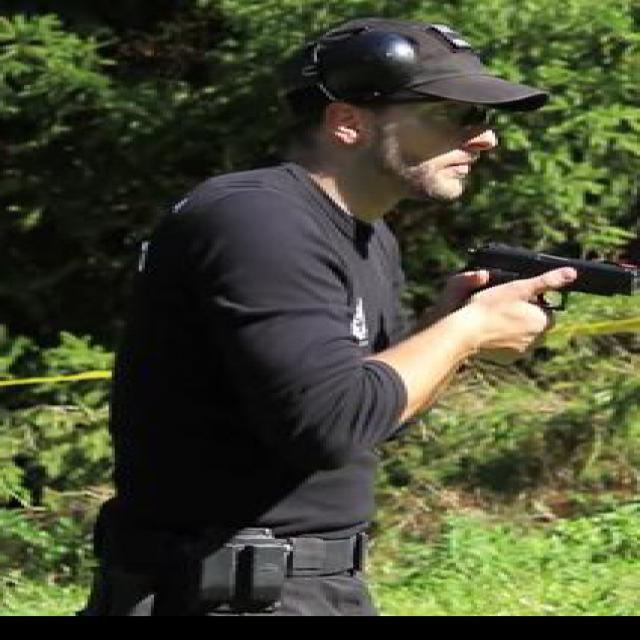Gun: (459, 236, 637, 342)
